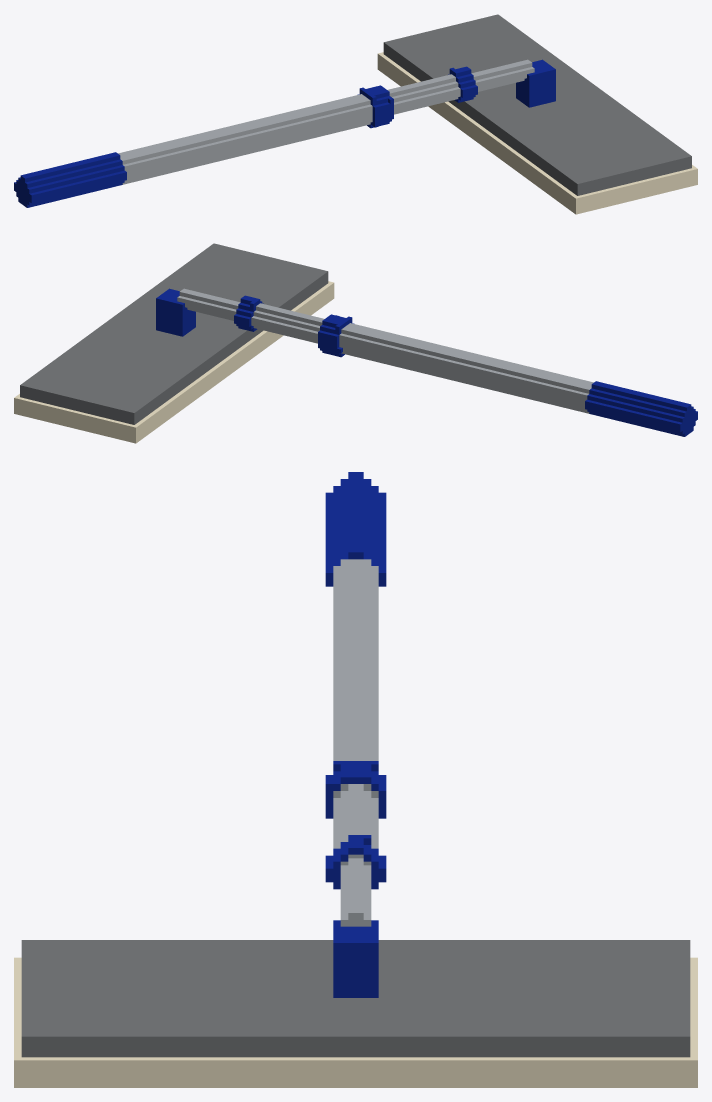
Rendered from mop_folded.glb.
The picture shows the model from 3 angles, top to bottom: view 1: azimuth 30°, elevation 25°; view 2: azimuth 150°, elevation 25°; view 3: azimuth 270°, elevation 25°; orthographic projection. The views are drawn at different scales.
Visible parts, largest first — view 1: mop_folded:compound; view 2: mop_folded:compound; view 3: mop_folded:compound.
Boxes of the visible parts, x1=… form: mop_folded:compound: x1=14, y1=14, x2=697, y2=214; mop_folded:compound: x1=14, y1=243, x2=697, y2=443; mop_folded:compound: x1=14, y1=472, x2=697, y2=1087.
Bounding box in the file's own units: 0.604 × 0.076 × 0.36.
